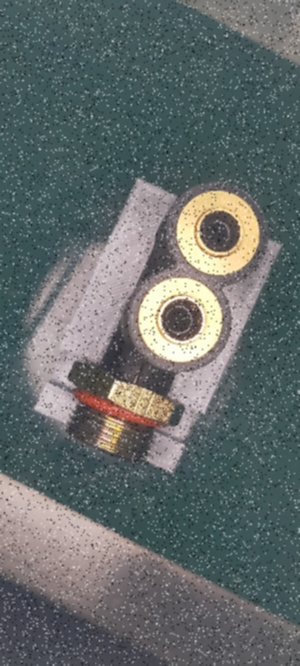craze: (134, 359, 146, 384)
